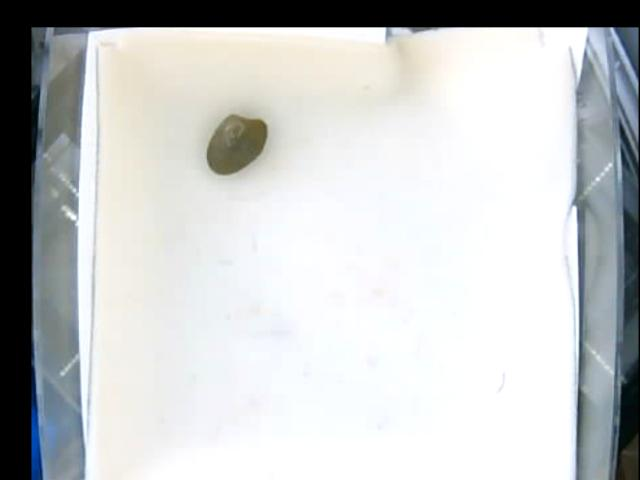Pebble: (209, 116, 266, 173)
